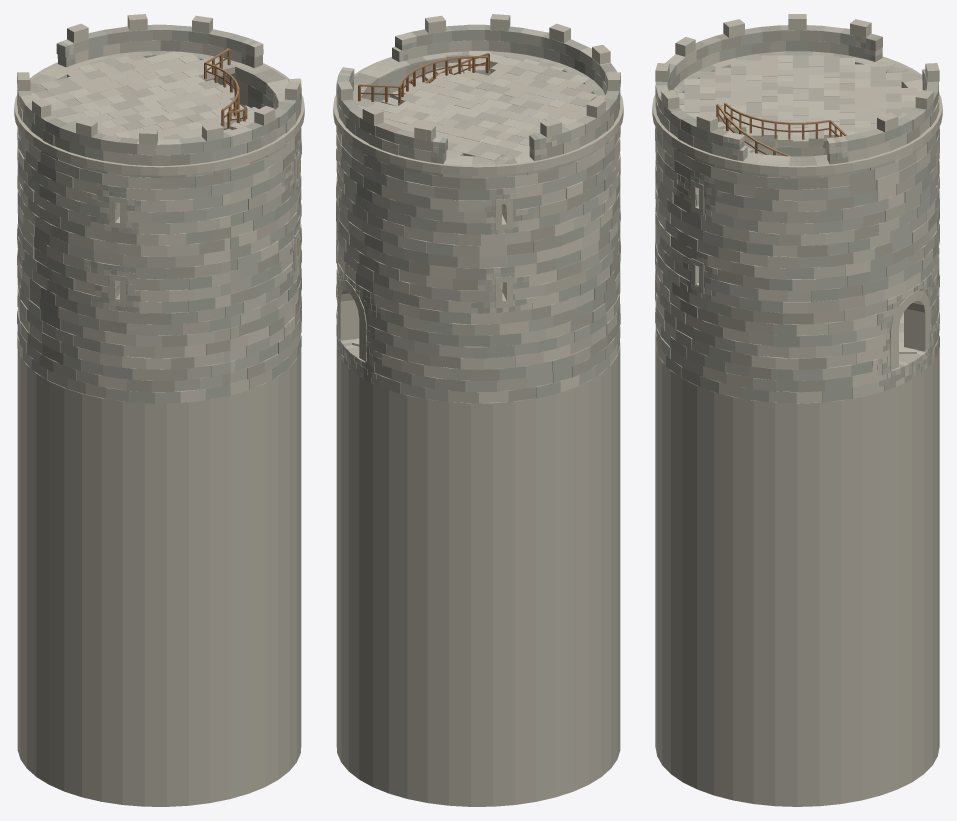
The model's file is Tower_V4_5.glb.
3 renders of one model, left to right at view 1: azimuth 30°, elevation 25°; view 2: azimuth 150°, elevation 25°; view 3: azimuth 270°, elevation 25°, orthographic.
Visible parts, largest first — view 1: Tower_V4_5; view 2: Tower_V4_5; view 3: Tower_V4_5.
Boxes of the visible parts, x1,y1,x2,y2 form: Tower_V4_5: [14, 14, 304, 806]; Tower_V4_5: [333, 14, 623, 806]; Tower_V4_5: [652, 14, 942, 806].
Size of the model in its own units: 16.84 by 43.07 by 16.84.
